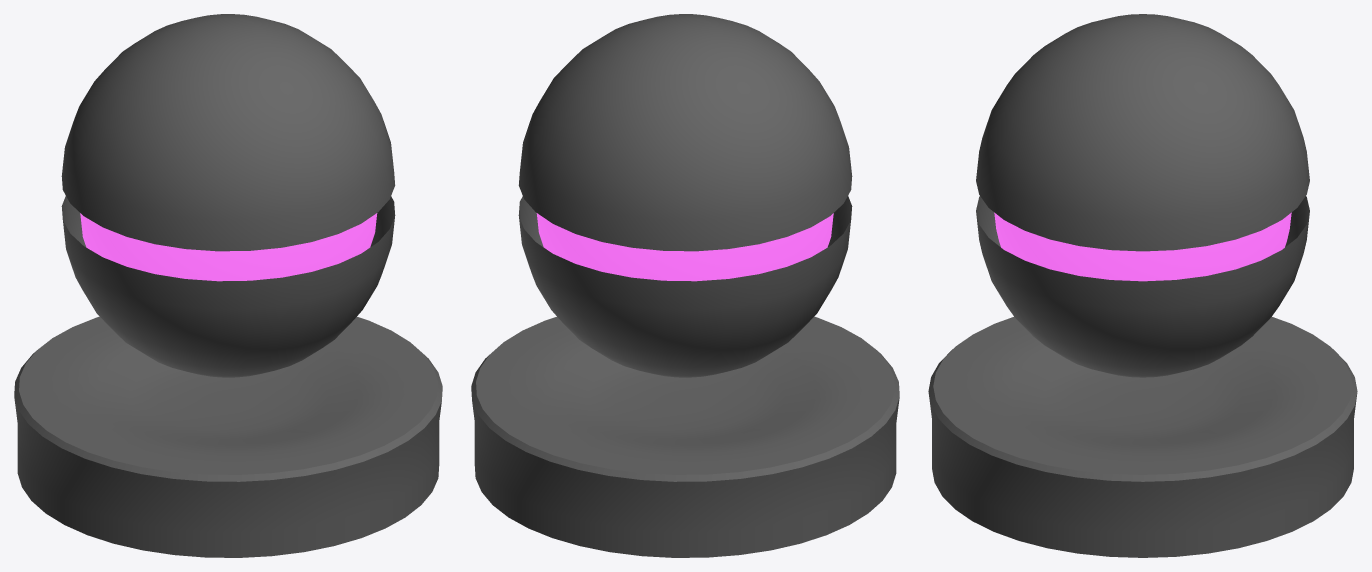
The model's file is shockwave.glb.
3 renders of one model, left to right at view 1: azimuth 30°, elevation 25°; view 2: azimuth 150°, elevation 25°; view 3: azimuth 270°, elevation 25°, orthographic.
Visible parts, largest first — view 1: Base, Top Cap, Bottom Cap, Sphere; view 2: Base, Top Cap, Bottom Cap, Sphere; view 3: Base, Top Cap, Bottom Cap, Sphere.
Boxes of the visible parts, x1=… form: Base: x1=14, y1=316, x2=442, y2=557; Top Cap: x1=61, y1=14, x2=395, y2=251; Bottom Cap: x1=61, y1=196, x2=395, y2=377; Sphere: x1=80, y1=213, x2=377, y2=281; Base: x1=471, y1=316, x2=899, y2=557; Top Cap: x1=518, y1=14, x2=852, y2=251; Bottom Cap: x1=518, y1=196, x2=852, y2=377; Sphere: x1=536, y1=213, x2=833, y2=281; Base: x1=928, y1=317, x2=1357, y2=557; Top Cap: x1=976, y1=14, x2=1309, y2=251; Bottom Cap: x1=976, y1=196, x2=1309, y2=377; Sphere: x1=994, y1=212, x2=1291, y2=281.
Bounding box in the file's own units: 0.9876 × 1.12 × 0.9876.
